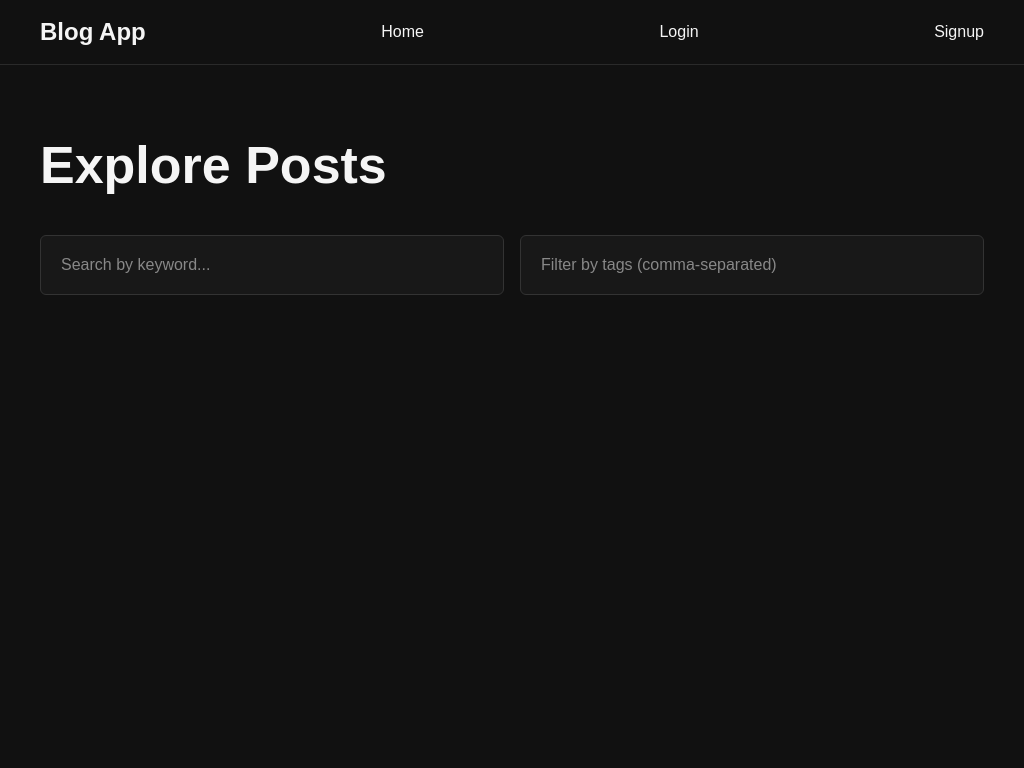
Test: Blog App Frontend Tests › Should have an option to login with google
What coordinates should you click on to do the following:
click the link "Login"
I would click on:
 (680, 32)
Its box is [660, 23, 699, 41].
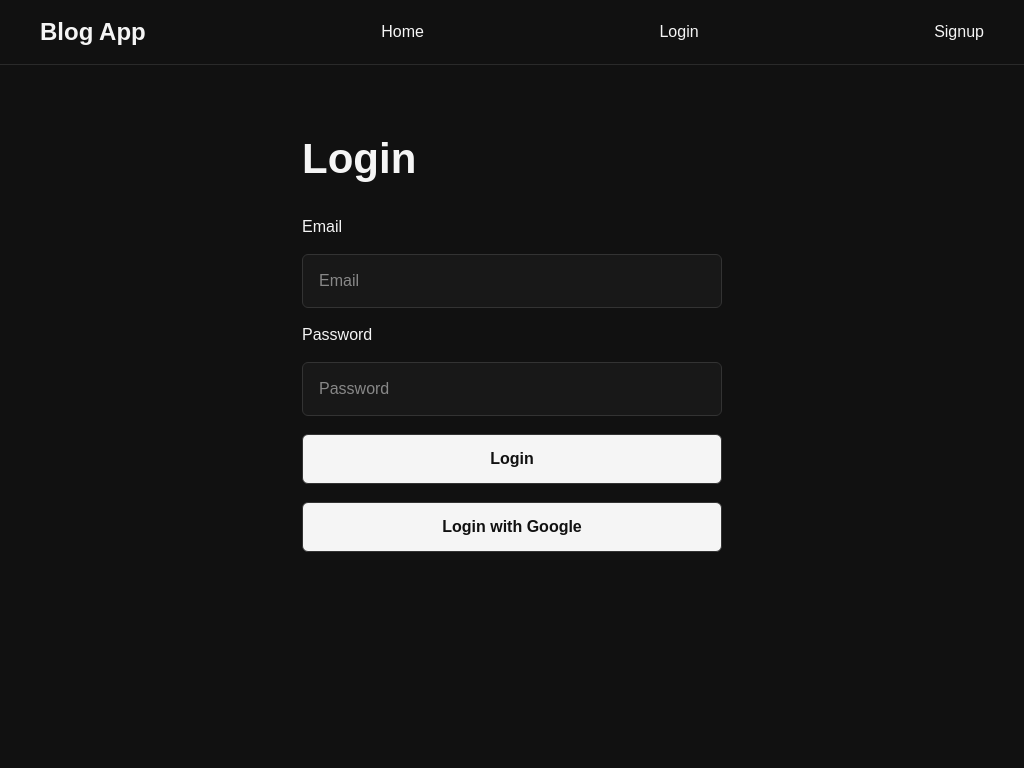
Check: the button "Login with Google" is shown, box [302, 502, 722, 552]
